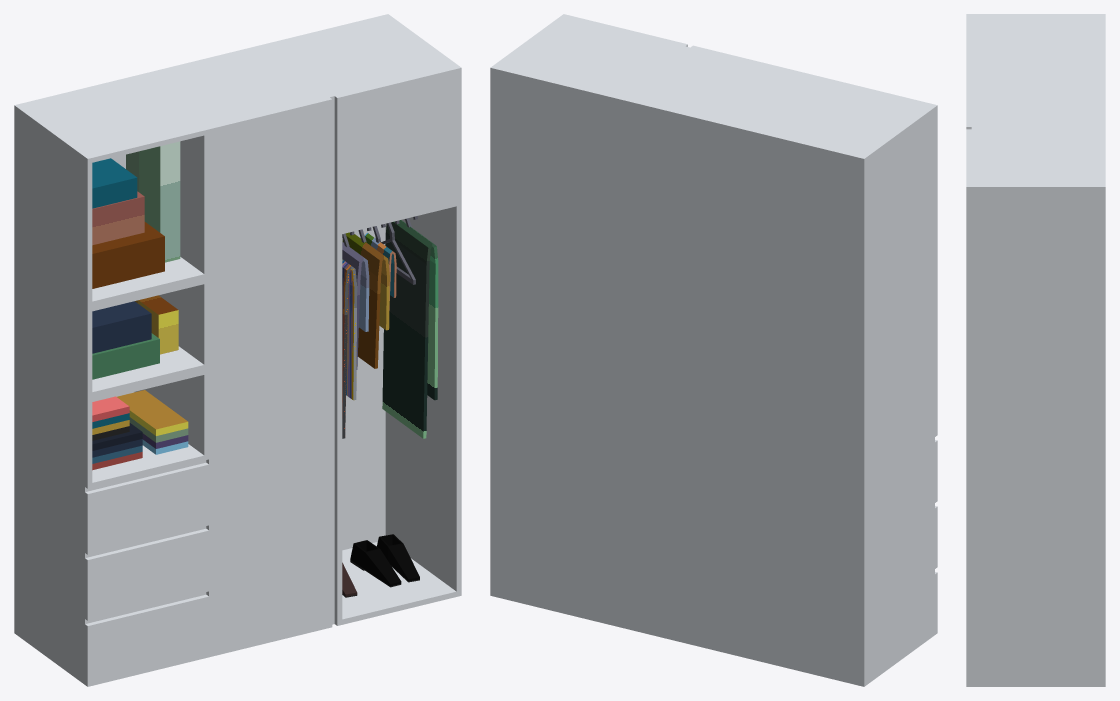
File: Building_ClosetB.glb
3 views of the same model, side by side, from view 1: azimuth 30°, elevation 25°; view 2: azimuth 150°, elevation 25°; view 3: azimuth 270°, elevation 25° (orthographic). The views are drawn at different scales.
Parts seen in each view (by area): view 1: Building_ClosetB; view 2: Building_ClosetB; view 3: Building_ClosetB.
Part boxes in pixels (x1=…): Building_ClosetB: x1=14, y1=14, x2=461, y2=686; Building_ClosetB: x1=490, y1=14, x2=937, y2=686; Building_ClosetB: x1=966, y1=14, x2=1105, y2=686.
Size of the model in its own units: 1.76 by 2.38 by 0.6.
Materials: 1 (1 with a texture image).
